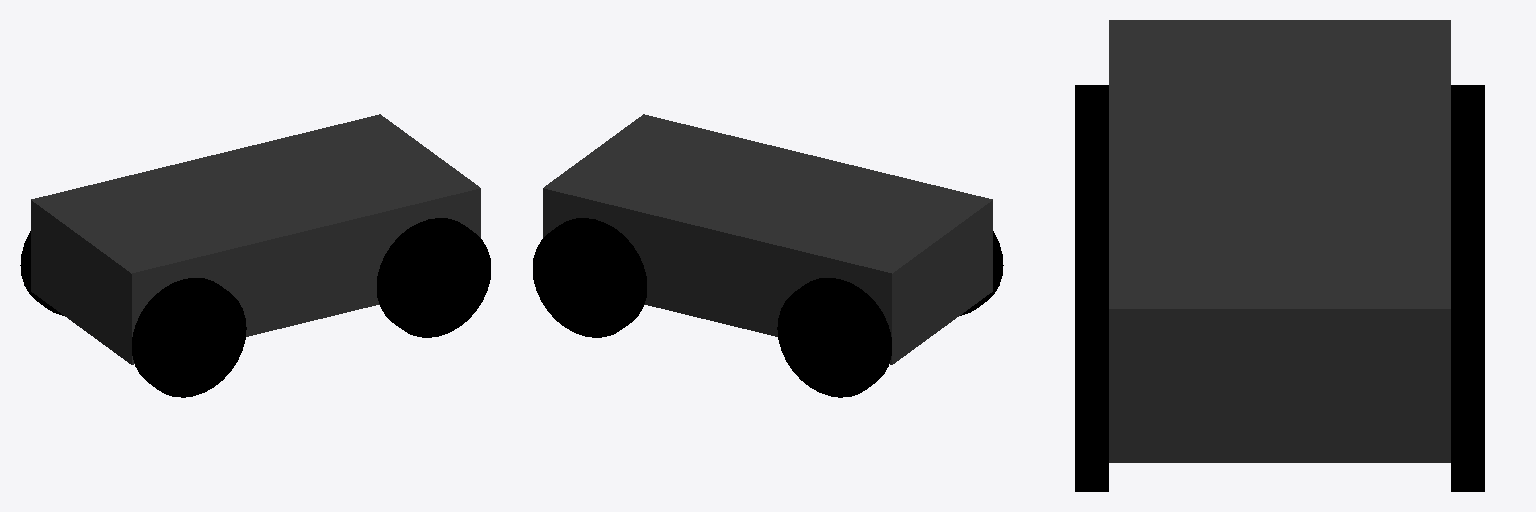
robot.urdf — ackerma_robot:
<?xml version="1.0" ?>
<!-- =================================================================================== -->
<!-- |    This document was autogenerated by xacro from model.xacro                    | -->
<!-- |    EDITING THIS FILE BY HAND IS NOT RECOMMENDED                                 | -->
<!-- =================================================================================== -->
<robot name="ackerma_robot">
  <plugin filename="gz-sim-diff-drive-system" name="gz::sim::systems::DiffDrive">
    <left_joint>left_wheel_joint</left_joint>
    <right_joint>right_wheel_joint</right_joint>
    <wheel_separation>1.2</wheel_separation>
    <wheel_radius>0.4</wheel_radius>
    <odom_publish_frequency>1</odom_publish_frequency>
    <topic>cmd_vel</topic>
  </plugin>
  <!-- Links -->
  <!-- Body Link -->
  <link name="body_link">
    <visual>
      <origin rpy="0.0 0.0 0.0" xyz="0.0 0.0 0.0"/>
      <geometry>
        <box size="2.0 1.0 0.5"/>
      </geometry>
      <material name="body_material">
        <color rgba="0.25 0.25 0.25 1.0"/>
      </material>
    </visual>
    <collision>
      <origin rpy="0.0 0.0 0.0" xyz="0.0 0.0 0.0"/>
      <geometry>
        <box size="2.0 1.0 0.5"/>
      </geometry>
    </collision>
    <inertial>
      <mass value="1000.0"/>
      <inertia ixx="104.16666666666666" ixy="0.0" ixz="0.0" iyy="354.16666666666663" iyz="0" izz="416.66666666666663"/>
      <origin rpy="0 0 0" xyz="0 0 0"/>
    </inertial>
  </link>
  <!-- Front Left Wheel -->
  <link name="front_left_wheel_link">
    <visual>
      <origin rpy="1.570795 0.0 0.0" xyz="0.0 0.0 0.0"/>
      <geometry>
        <cylinder length="0.1" radius="0.3"/>
      </geometry>
      <material name="wheel_material">
        <color rgba="0.0 0.0 0.0 1.0"/>
      </material>
    </visual>
    <collision>
      <origin rpy="1.570795 0.0 0.0" xyz="0.0 0.0 0.0"/>
      <geometry>
        <cylinder length="0.1" radius="0.3"/>
      </geometry>
    </collision>
    <inertial>
      <mass value="28.27433385"/>
      <inertia ixx="0.6597344564999998" ixy="0.0" ixz="0.0" iyy="0.6597344564999998" iyz="0" izz="1.27234502325"/>
      <origin rpy="1.570795 0.0 0.0" xyz="0.0 0.0 0.0"/>
    </inertial>
  </link>
  <!-- Front Left Wheel Steering -->
  <link name="front_left_steering_link">
    <visual>
      <origin rpy="1.570795 0.0 0.0" xyz="0.0 0.0 0.0"/>
      <geometry>
        <cylinder length="0.001" radius="0.01"/>
      </geometry>
      <material name="wheel_material">
        <color rgba="0.0 0.0 0.0 1.0"/>
      </material>
    </visual>
    <collision>
      <origin rpy="1.570795 0.0 0.0" xyz="0.0 0.0 0.0"/>
      <geometry>
        <cylinder length="0.001" radius="0.01"/>
      </geometry>
    </collision>
    <inertial>
      <mass value="0.01"/>
      <inertia ixx="0.0" ixy="0.0" ixz="0.0" iyy="0.0" iyz="0.0" izz="0.0"/>
      <origin rpy="1.570795 0.0 0.0" xyz="0.0 0.0 0.0"/>
    </inertial>
  </link>
  <!-- Front Right Wheel -->
  <link name="front_right_wheel_link">
    <visual>
      <origin rpy="1.570795 0.0 0.0" xyz="0.0 0.0 0.0"/>
      <geometry>
        <cylinder length="0.1" radius="0.3"/>
      </geometry>
      <material name="wheel_material">
        <color rgba="0.0 0.0 0.0 1.0"/>
      </material>
    </visual>
    <collision>
      <origin rpy="1.570795 0.0 0.0" xyz="0.0 0.0 0.0"/>
      <geometry>
        <cylinder length="0.1" radius="0.3"/>
      </geometry>
    </collision>
    <inertial>
      <mass value="28.27433385"/>
      <inertia ixx="0.6597344564999998" ixy="0.0" ixz="0.0" iyy="0.6597344564999998" iyz="0" izz="1.27234502325"/>
      <origin rpy="1.570795 0.0 0.0" xyz="0.0 0.0 0.0"/>
    </inertial>
  </link>
  <!-- Front Right Wheel Steering -->
  <link name="front_right_steering_link">
    <visual>
      <origin rpy="1.570795 0.0 0.0" xyz="0.0 0.0 0.0"/>
      <geometry>
        <cylinder length="0.001" radius="0.01"/>
      </geometry>
      <material name="wheel_material">
        <color rgba="0.0 0.0 0.0 1.0"/>
      </material>
    </visual>
    <collision>
      <origin rpy="1.570795 0.0 0.0" xyz="0.0 0.0 0.0"/>
      <geometry>
        <cylinder length="0.001" radius="0.01"/>
      </geometry>
    </collision>
    <inertial>
      <mass value="0.01"/>
      <inertia ixx="0.0" ixy="0.0" ixz="0.0" iyy="0.0" iyz="0.0" izz="0.0"/>
      <origin rpy="1.570795 0.0 0.0" xyz="0.0 0.0 0.0"/>
    </inertial>
  </link>
  <!-- Rear Left Wheel -->
  <link name="rear_left_wheel_link">
    <visual>
      <origin rpy="1.570795 0.0 0.0" xyz="0.0 0.0 0.0"/>
      <geometry>
        <cylinder length="0.1" radius="0.3"/>
      </geometry>
      <material name="wheel_material">
        <color rgba="0.0 0.0 0.0 1.0"/>
      </material>
    </visual>
    <collision>
      <origin rpy="1.570795 0.0 0.0" xyz="0.0 0.0 0.0"/>
      <geometry>
        <cylinder length="0.1" radius="0.3"/>
      </geometry>
    </collision>
    <inertial>
      <mass value="2"/>
      <inertia ixx="0.6597344564999998" ixy="0.0" ixz="0.0" iyy="0.6597344564999998" iyz="0" izz="1.27234502325"/>
      <origin rpy="1.570795 0.0 0.0" xyz="0.0 0.0 0.0"/>
    </inertial>
  </link>
  <!-- Rear Right Wheel -->
  <link name="rear_right_wheel_link">
    <visual>
      <origin rpy="1.570795 0.0 0.0" xyz="0.0 0.0 0.0"/>
      <geometry>
        <cylinder length="0.1" radius="0.3"/>
      </geometry>
      <material name="wheel_material">
        <color rgba="0.0 0.0 0.0 1.0"/>
      </material>
    </visual>
    <collision>
      <origin rpy="1.570795 0.0 0.0" xyz="0.0 0.0 0.0"/>
      <geometry>
        <cylinder length="0.1" radius="0.3"/>
      </geometry>
    </collision>
    <inertial>
      <mass value="2"/>
      <inertia ixx="0.6597344564999998" ixy="0.0" ixz="0.0" iyy="0.6597344564999998" iyz="0" izz="1.27234502325"/>
      <origin rpy="1.570795 0.0 0.0" xyz="0.0 0.0 0.0"/>
    </inertial>
  </link>
  <!-- Joints -->
  <!-- Front Left Steering Joint -->
  <joint name="front_left_steering_joint" type="revolute">
    <origin rpy="0 0 0" xyz="0.7 0.55 -0.15"/>
    <parent link="body_link"/>
    <child link="front_left_steering_link"/>
    <axis xyz="0 0 1"/>
    <limit effort="1.0" lower="-0.6108" upper="0.6108" velocity="1.570796"/>
    <dynamics damping="0.1" friction="0.1"/>
  </joint>
  <!-- Front Left Wheel Joint -->
  <joint name="front_left_wheel_joint" type="continuous">
    <origin rpy="0 0 0" xyz="0 0 0"/>
    <parent link="front_left_steering_link"/>
    <child link="front_left_wheel_link"/>
    <axis xyz="0 1 0"/>
    <limit effort="10.0" velocity="3.3333333333333335"/>
    <dynamics damping="0.1" friction="0.1"/>
  </joint>
  <!-- Front Right Steering Joint -->
  <joint name="front_right_steering_joint" type="revolute">
    <origin rpy="0 0 0" xyz="0.7 -0.55 -0.15"/>
    <parent link="body_link"/>
    <child link="front_right_steering_link"/>
    <axis xyz="0 0 1"/>
    <limit effort="1.0" lower="-0.6108" upper="0.6108" velocity="1.570796"/>
    <dynamics damping="0.1" friction="0.1"/>
  </joint>
  <!-- Front Right Wheel Joint -->
  <joint name="front_right_wheel_joint" type="continuous">
    <origin rpy="0 0 0" xyz="0 0 0"/>
    <parent link="front_right_steering_link"/>
    <child link="front_right_wheel_link"/>
    <axis xyz="0 1 0"/>
    <limit effort="10.0" velocity="3.3333333333333335"/>
    <dynamics damping="0.1" friction="0.1"/>
  </joint>
  <!-- Rear Left Wheel Joint -->
  <joint name="rear_left_wheel_joint" type="continuous">
    <origin rpy="0 0 0" xyz="-0.7 0.55 -0.15"/>
    <parent link="body_link"/>
    <child link="rear_left_wheel_link"/>
    <axis xyz="0 1 0"/>
    <limit effort="10.0" velocity="3.3333333333333335"/>
    <dynamics damping="0.1" friction="0.1"/>
  </joint>
  <!-- Rear Right Wheel Joint -->
  <joint name="rear_right_wheel_joint" type="continuous">
    <origin rpy="0 0 0" xyz="-0.7 -0.55 -0.15"/>
    <parent link="body_link"/>
    <child link="rear_right_wheel_link"/>
    <axis xyz="0 1 0"/>
    <limit effort="10.0" velocity="3.3333333333333335"/>
    <dynamics damping="0.1" friction="0.1"/>
  </joint>
  <!-- Gazebo Parameters -->
  <gazebo reference="body_link">
    <mu1>0.0001</mu1>
    <mu2>0.0001</mu2>
  </gazebo>
  <gazebo reference="front_right_wheel_link">
    <mu1>100.0</mu1>
    <mu2>100.0</mu2>
  </gazebo>
  <gazebo reference="front_left_wheel_link">
    <mu1>100.0</mu1>
    <mu2>100.0</mu2>
  </gazebo>
  <gazebo reference="rear_right_wheel_link">
    <mu1>100.0</mu1>
    <mu2>100.0</mu2>
  </gazebo>
  <gazebo reference="rear_left_wheel_link">
    <mu1>100.0</mu1>
    <mu2>100.0</mu2>
  </gazebo>
  <!-- Gazebo Control -->
  <ros2_control name="control" type="system">
    <hardware>
      <plugin>gz_ros2_control/GazeboSimSystem</plugin>
    </hardware>
    <joint name="front_left_steering_joint">
      <command_interface name="position">
        <param name="min">-0.6108</param>
        <param name="max">0.6108</param>
      </command_interface>
      <state_interface name="position"/>
      <state_interface name="velocity"/>
      <state_interface name="effort"/>
    </joint>
    <joint name="front_right_steering_joint">
      <command_interface name="position">
        <param name="min">-0.6108</param>
        <param name="max">0.6108</param>
      </command_interface>
      <state_interface name="position"/>
      <state_interface name="velocity"/>
      <state_interface name="effort"/>
    </joint>
    <joint name="rear_left_wheel_joint">
      <command_interface name="velocity">
        <param name="min">-3.3333333333333335</param>
        <param name="max">3.3333333333333335</param>
      </command_interface>
      <state_interface name="position"/>
      <state_interface name="velocity"/>
      <state_interface name="effort"/>
    </joint>
    <joint name="rear_right_wheel_joint">
      <command_interface name="velocity">
        <param name="min">-3.3333333333333335</param>
        <param name="max">3.3333333333333335</param>
      </command_interface>
      <state_interface name="position"/>
      <state_interface name="velocity"/>
      <state_interface name="effort"/>
    </joint>
  </ros2_control>
  <!-- Gazebo Plugins -->
  <gazebo>
    <plugin filename="gz-sim-joint-state-publisher-system" name="gz::sim::systems::JointStatePublisher">
      <topic>joint_states</topic>
      <joint_name>front_left_steering_joint</joint_name>
      <joint_name>front_right_steering_joint</joint_name>
      <joint_name>front_left_wheel_joint</joint_name>
      <joint_name>front_right_wheel_joint</joint_name>
      <joint_name>rear_left_wheel_joint</joint_name>
      <joint_name>rear_right_wheel_joint</joint_name>
    </plugin>
    <!-- Moving Forward -->
    <plugin filename="gz-sim-triggered-publisher-system" name="gz::sim::systems::TriggeredPublisher">
      <input topic="/keyboard/keypress" type="gz.msgs.Int32">
        <match field="data">16777235</match>
      </input>
      <output topic="/cmd_vel" type="gz.msgs.Twist">
		    linear: {x: 0.5}, angular: {z: 0.0}
	    </output>
    </plugin>
    <!-- Moving Backward-->
    <plugin filename="gz-sim-triggered-publisher-system" name="gz::sim::systems::TriggeredPublisher">
      <input topic="/keyboard/keypress" type="gz.msgs.Int32">
        <match field="data">16777237</match>
      </input>
      <output topic="/cmd_vel" type="gz.msgs.Twist">
		    linear: {x: -0.5}, angular: {z: 0}
	    </output>
    </plugin>
    <!-- Moving LEFT-->
    <plugin filename="gz-sim-triggered-publisher-system" name="gz::sim::systems::TriggeredPublisher">
      <input topic="/keyboard/keypress" type="gz.msgs.Int32">
        <match field="data">16777234</match>
      </input>
      <output topic="/cmd_vel" type="gz.msgs.Twist">
		    linear: {x: 0}, angular: {z: 0.5}
	    </output>
    </plugin>
    <!-- Moving RIGHT-->
    <plugin filename="gz-sim-triggered-publisher-system" name="gz::sim::systems::TriggeredPublisher">
      <input topic="/keyboard/keypress" type="gz.msgs.Int32">
        <match field="data">16777236</match>
      </input>
      <output topic="/cmd_vel" type="gz.msgs.Twist">
		    linear: {x: 0}, angular: {z: -0.5}
	    </output>
    </plugin>
  </gazebo>
</robot>

--- Render facts (derived) ---
Views: 3 orthographic renders of the robot side by side, from view 1: azimuth 30°, elevation 25°; view 2: azimuth 150°, elevation 25°; view 3: azimuth 270°, elevation 25°.
Robot: ackerma_robot — 7 links, 6 joints (2 revolute, 4 continuous); root link body_link; default pose: every joint at zero.
Visible links, largest first — view 1: body_link, front_right_wheel_link, rear_right_wheel_link, rear_left_wheel_link; view 2: body_link, front_left_wheel_link, rear_left_wheel_link, rear_right_wheel_link; view 3: body_link, front_left_wheel_link, front_right_wheel_link, rear_left_wheel_link, rear_right_wheel_link.
Boxes of the visible links, <box> form: body_link: <box>31,114,480,364</box>; front_right_wheel_link: <box>377,218,490,337</box>; rear_right_wheel_link: <box>132,278,246,397</box>; rear_left_wheel_link: <box>20,231,63,315</box>; body_link: <box>543,114,992,364</box>; front_left_wheel_link: <box>533,218,646,337</box>; rear_left_wheel_link: <box>777,278,891,397</box>; rear_right_wheel_link: <box>960,231,1003,315</box>; body_link: <box>1109,20,1450,462</box>; front_left_wheel_link: <box>1451,287,1484,491</box>; front_right_wheel_link: <box>1075,287,1108,491</box>; rear_left_wheel_link: <box>1451,85,1484,286</box>; rear_right_wheel_link: <box>1075,85,1108,286</box>.
Size in the robot's own frame: 2 by 1.2 by 0.7 metres.
Geometry: primitives only (box / cylinder / sphere), no mesh files.
